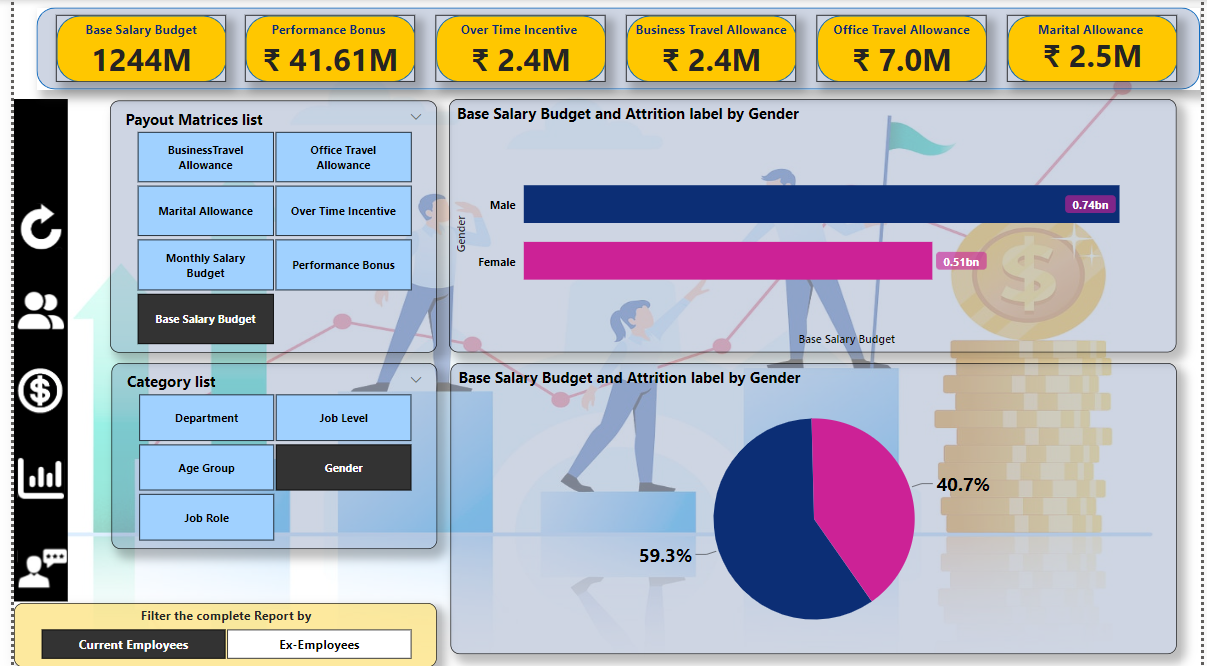

Layout of this report page (visuals, bound fields, positions):
{"tool":"powerbi","page":{"name":"Salary & Payouts","canvas":[1280,720],"ordinal":1},"visuals":[{"type":"shape","title":"backgroung","box":[24.3,8.1,1255,88.3],"z":0,"group":"g2"},{"type":"shape","box":[45.6,16.1,183.3,71.7],"z":0,"group":"g1"},{"type":"shape","box":[249.6,16.7,183.3,71.7],"z":0,"group":"g6"},{"type":"shape","box":[455,16.7,183.3,71.7],"z":0,"group":"g5"},{"type":"shape","box":[660.9,16.7,183.3,71.7],"z":0,"group":"g7"},{"type":"shape","box":[865.6,16.7,183.3,71.7],"z":0,"group":"g4"},{"type":"shape","box":[1071,16.7,183.3,71.7],"z":0,"group":"g3"},{"type":"actionButton","box":[0,212,58.2,64.7],"z":0,"group":"g8"},{"type":"slicer","title":"Filter the complete Report by","fields":{"Values":["Employees.attrition label"]},"box":[0,650.4,456.3,69.6],"z":0},{"type":"group","id":"g1","title":"Group 2","box":[45.6,16.1,183.3,71.7],"z":1000,"group":"g2"},{"type":"textbox","box":[45.6,16.1,183.3,36.7],"z":1000,"group":"g1"},{"type":"textbox","box":[249.6,16.7,183.3,36.7],"z":1000,"group":"g6"},{"type":"textbox","box":[455,16.7,183.3,36.7],"z":1000,"group":"g5"},{"type":"textbox","box":[660.3,16.7,183.3,36.7],"z":1000,"group":"g7"},{"type":"textbox","box":[865.6,16.7,183.3,36.7],"z":1000,"group":"g4"},{"type":"textbox","box":[1071,16.7,183.3,36.7],"z":1000,"group":"g3"},{"type":"shape","box":[0,106.8,58.2,542],"z":1000},{"type":"actionButton","box":[0,305.8,58.2,58.2],"z":1000,"group":"g8"},{"type":"group","id":"g2","title":"Group 3","box":[24.3,8.1,1255,88.3],"z":2000},{"type":"group","id":"g3","title":"Group 2","box":[1071,16.7,183.3,71.7],"z":2000,"group":"g2"},{"type":"card","title":"card","fields":{"Values":["Measures Table.$ Marital Allowance Paid Amount"]},"box":[1071.6,36.5,183.3,46.7],"z":2000,"group":"g3"},{"type":"card","title":"card","fields":{"Values":["Measures Table.$ yearly (base) Salary Budget"]},"box":[45.6,41.1,183.3,46.7],"z":2000,"group":"g1"},{"type":"card","title":"card","fields":{"Values":["Measures Table.$ Performance Bonus amount Paid"]},"box":[249.6,41.7,183.3,46.7],"z":2000,"group":"g6"},{"type":"card","title":"card","fields":{"Values":["Measures Table.$ Over Time Incentive Amount Paid"]},"box":[455,41.7,183.3,46.7],"z":2000,"group":"g5"},{"type":"card","title":"card","fields":{"Values":["Measures Table.$ BusinessTravel Allowance Paid Amount"]},"box":[660.3,41.7,183.3,46.7],"z":2000,"group":"g7"},{"type":"card","title":"card","fields":{"Values":["Measures Table.$ Office Travel Allowance Paid Amount"]},"box":[865.6,41.7,183.3,46.7],"z":2000,"group":"g4"},{"type":"actionButton","box":[0,393.2,58.2,56.6],"z":2000,"group":"g8"},{"type":"group","id":"g4","title":"Group 2","box":[865.6,16.7,183.3,71.7],"z":3000,"group":"g2"},{"type":"slicer","fields":{"Values":["#Parameter set of Payout Matrices.#Parameter set of Payout Matrices"]},"box":[103.6,108.4,352.7,271.8],"z":3000},{"type":"actionButton","box":[0,479,58.2,74.4],"z":3000,"group":"g8"},{"type":"group","id":"g5","title":"Group 2","box":[455,16.7,183.3,71.7],"z":4000,"group":"g2"},{"type":"barChart","fields":{"Y":["Measures Table.$ yearly (base) Salary Budget"],"Category":["Employees.Gender"]},"box":[469.2,106.8,784.7,273.4],"z":4000},{"type":"actionButton","box":[0,582.5,69.6,61.5],"z":4000,"group":"g8"},{"type":"group","id":"g6","title":"Group 2","box":[249.6,16.7,183.3,71.7],"z":5000,"group":"g2"},{"type":"slicer","fields":{"Values":["#Parameter- Category list.#Parameter- Category list"]},"box":[105.2,391.6,351.1,200.6],"z":5000},{"type":"group","id":"g7","title":"Business Travel payout","box":[660.3,16.7,183.3,71.7],"z":6000,"group":"g2"},{"type":"pieChart","fields":{"Y":["Measures Table.$ yearly (base) Salary Budget"],"Category":["Employees.Gender"]},"box":[470.8,391.6,783.1,313.9],"z":6000},{"type":"group","id":"g8","title":"Group 6","box":[0,212,69.6,432],"z":7000}]}

Visuals, with their boxes in screenshot pixels (x1, y1, x2, y2), scaled from the page's 1280x720 canvas onto the 1207x666 screenshot:
"backgroung" shape: <region>23, 7, 1206, 89</region>
shape: <region>43, 15, 216, 81</region>
shape: <region>235, 15, 408, 82</region>
shape: <region>429, 15, 602, 82</region>
shape: <region>623, 15, 796, 82</region>
shape: <region>816, 15, 989, 82</region>
shape: <region>1010, 15, 1183, 82</region>
actionButton: <region>0, 196, 55, 256</region>
"Filter the complete Report by" slicer: <region>0, 602, 430, 665</region>
"Group 2" group: <region>43, 15, 216, 81</region>
textbox: <region>43, 15, 216, 49</region>
textbox: <region>235, 15, 408, 49</region>
textbox: <region>429, 15, 602, 49</region>
textbox: <region>623, 15, 795, 49</region>
textbox: <region>816, 15, 989, 49</region>
textbox: <region>1010, 15, 1183, 49</region>
shape: <region>0, 99, 55, 600</region>
actionButton: <region>0, 283, 55, 337</region>
"Group 3" group: <region>23, 7, 1206, 89</region>
"Group 2" group: <region>1010, 15, 1183, 82</region>
"card" card: <region>1010, 34, 1183, 77</region>
"card" card: <region>43, 38, 216, 81</region>
"card" card: <region>235, 39, 408, 82</region>
"card" card: <region>429, 39, 602, 82</region>
"card" card: <region>623, 39, 795, 82</region>
"card" card: <region>816, 39, 989, 82</region>
actionButton: <region>0, 364, 55, 416</region>
"Group 2" group: <region>816, 15, 989, 82</region>
slicer - #Parameter set of Payout Matrices.#Parameter set of Payout Matrices: <region>98, 100, 430, 352</region>
actionButton: <region>0, 443, 55, 512</region>
"Group 2" group: <region>429, 15, 602, 82</region>
barChart - Measures Table.$ yearly (base) Salary Budget x Employees.Gender: <region>442, 99, 1182, 352</region>
actionButton: <region>0, 539, 66, 596</region>
"Group 2" group: <region>235, 15, 408, 82</region>
slicer - #Parameter- Category list.#Parameter- Category list: <region>99, 362, 430, 548</region>
"Business Travel payout" group: <region>623, 15, 795, 82</region>
pieChart - Measures Table.$ yearly (base) Salary Budget x Employees.Gender: <region>444, 362, 1182, 653</region>
"Group 6" group: <region>0, 196, 66, 596</region>
